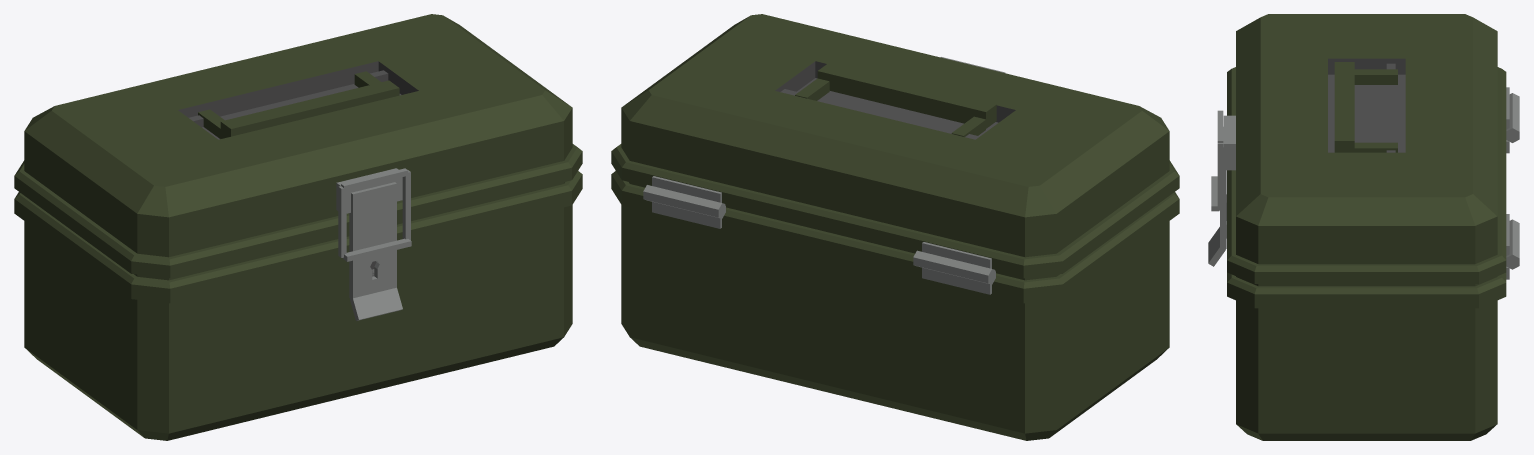
The model's file is tackle-box-efd0ee.glb.
The picture shows the model from 3 angles, left to right: view 1: azimuth 30°, elevation 25°; view 2: azimuth 150°, elevation 25°; view 3: azimuth 270°, elevation 25°; orthographic projection. The views are drawn at different scales.
Parts seen in each view (by area): view 1: lid, tackle-box, handle; view 2: lid, tackle-box, handle; view 3: lid, tackle-box, handle.
Boxes of the visible parts, x1,y1,x2,y2 form: lid: [14, 14, 582, 320]; tackle-box: [14, 171, 582, 440]; handle: [189, 70, 399, 139]; lid: [611, 14, 1179, 278]; tackle-box: [611, 171, 1179, 440]; handle: [780, 63, 996, 139]; lid: [1208, 14, 1509, 283]; tackle-box: [1226, 93, 1519, 440]; handle: [1334, 62, 1397, 152].
Size of the model in its own units: 0.45 by 0.24 by 0.28.
